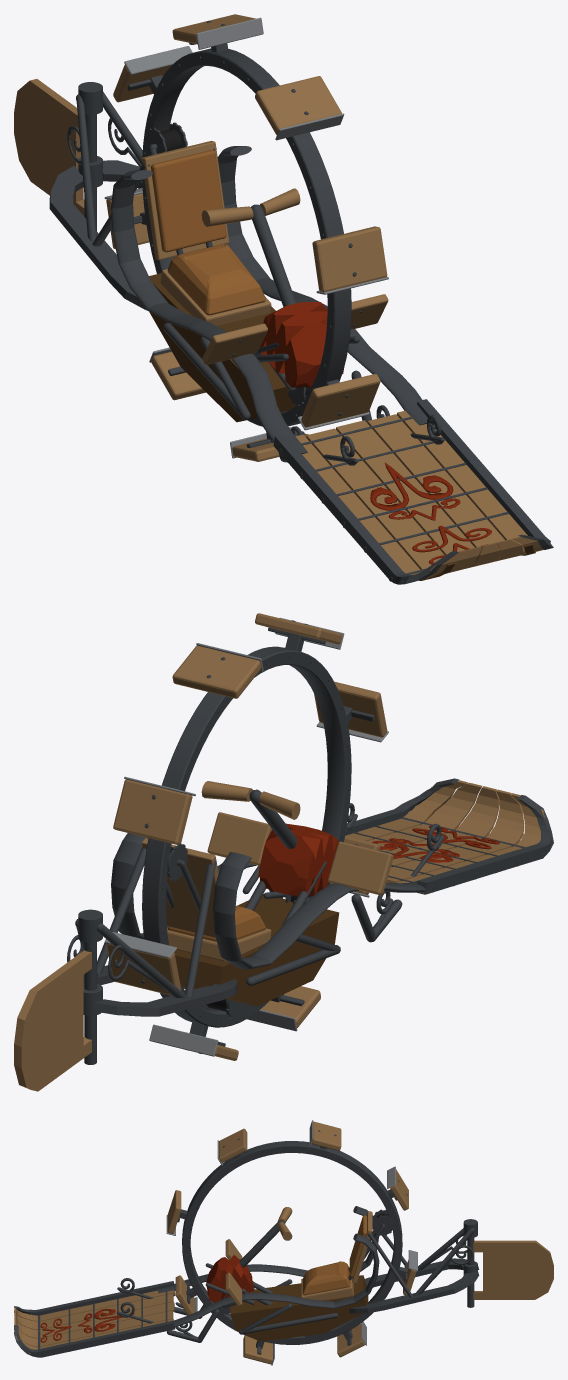
Rendered from desert_monowheel_runner.fbx.
The picture shows the model from 3 angles, top to bottom: view 1: azimuth 30°, elevation 25°; view 2: azimuth 150°, elevation 25°; view 3: azimuth 270°, elevation 25°; orthographic projection. The views are drawn at different scales.
Parts seen in each view (by area): view 1: Mesh_SkiDeck_Runner, Mesh_Ring_Runner, Mesh_SideHoopR_Runner, Mesh_SkiRails_Runner, Mesh_BackCushion_Runner, Mesh_TailPanel_Runner, Mesh_SideHoopL_Runner, Mesh_SeatCushion_Runner, Mesh_FrontCowl_Runner, Mesh_BellyPan_Runner, Mesh_Paddle02_Runner, Mesh_RearRailR_Runner (+22 smaller); view 2: Mesh_Ring_Runner, Mesh_SkiDeck_Runner, Mesh_TailPanel_Runner, Mesh_BellyPan_Runner, Mesh_SideHoopR_Runner, Mesh_FrontCowl_Runner, Mesh_SkiRails_Runner, Mesh_Paddle07_Runner, Mesh_SeatPosts_Runner, Mesh_CheekL_Runner, Mesh_Paddle00_Runner, Mesh_Backrest_Runner (+22 smaller); view 3: Mesh_Ring_Runner, Mesh_SkiDeck_Runner, Mesh_TailPanel_Runner, Mesh_BellyPan_Runner, Mesh_SkiRails_Runner, Mesh_SideHoopL_Runner, Mesh_CheekR_Runner, Mesh_SeatPosts_Runner, Mesh_RearRailL_Runner, Mesh_FrontCowl_Runner, Mesh_SeatCushion_Runner, Mesh_SideHoopR_Runner (+20 smaller).
Boxes of the visible parts, <box> form: Mesh_SkiDeck_Runner: <box>295,410,543,581</box>; Mesh_Ring_Runner: <box>142,48,351,426</box>; Mesh_SideHoopR_Runner: <box>111,170,307,457</box>; Mesh_SkiRails_Runner: <box>273,399,553,584</box>; Mesh_BackCushion_Runner: <box>150,150,226,252</box>; Mesh_TailPanel_Runner: <box>14,79,84,216</box>; Mesh_SideHoopL_Runner: <box>217,146,427,425</box>; Mesh_SeatCushion_Runner: <box>167,244,265,315</box>; Mesh_FrontCowl_Runner: <box>259,302,343,387</box>; Mesh_BellyPan_Runner: <box>149,273,296,422</box>; Mesh_Paddle02_Runner: <box>312,226,387,292</box>; Mesh_RearRailR_Runner: <box>49,166,147,310</box>; Mesh_Ring_Runner: <box>142,646,351,1027</box>; Mesh_SkiDeck_Runner: <box>345,780,545,893</box>; Mesh_TailPanel_Runner: <box>14,950,91,1091</box>; Mesh_BellyPan_Runner: <box>174,894,339,1006</box>; Mesh_SideHoopR_Runner: <box>213,852,438,969</box>; Mesh_FrontCowl_Runner: <box>258,823,338,897</box>; Mesh_SkiRails_Runner: <box>345,778,553,894</box>; Mesh_Paddle07_Runner: <box>113,779,192,845</box>; Mesh_SeatPosts_Runner: <box>97,847,340,996</box>; Mesh_CheekL_Runner: <box>97,823,444,997</box>; Mesh_Paddle00_Runner: <box>172,645,261,698</box>; Mesh_Backrest_Runner: <box>141,838,218,937</box>; Mesh_Ring_Runner: <box>182,1141,402,1344</box>; Mesh_SkiDeck_Runner: <box>14,1290,174,1353</box>; Mesh_TailPanel_Runner: <box>473,1240,553,1299</box>; Mesh_BellyPan_Runner: <box>230,1275,368,1341</box>; Mesh_SkiRails_Runner: <box>14,1281,175,1357</box>; Mesh_SideHoopL_Runner: <box>160,1233,379,1330</box>; Mesh_CheekR_Runner: <box>117,1228,474,1342</box>; Mesh_SeatPosts_Runner: <box>239,1218,412,1334</box>; Mesh_RearRailL_Runner: <box>349,1271,479,1313</box>; Mesh_FrontCowl_Runner: <box>206,1255,253,1302</box>; Mesh_SeatCushion_Runner: <box>302,1261,350,1295</box>; Mesh_SideHoopR_Runner: <box>157,1206,378,1293</box>.
Size of the model in its own units: 176 by 388 by 833.
